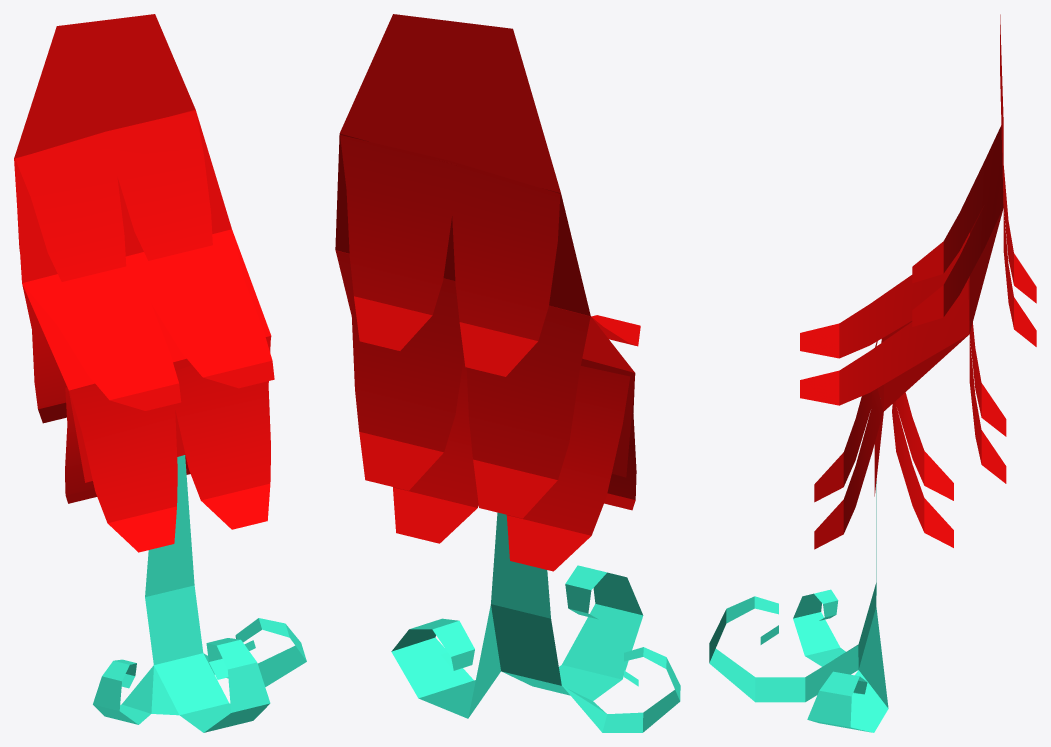
The model's file is tree_1.FBX.
3 renders of one model, left to right at view 1: azimuth 30°, elevation 25°; view 2: azimuth 150°, elevation 25°; view 3: azimuth 270°, elevation 25°, orthographic. The views are drawn at different scales.
Parts seen in each view (by area): view 1: tree_A_v1_top, tree_A_v1_base; view 2: tree_A_v1_top, tree_A_v1_base; view 3: tree_A_v1_top, tree_A_v1_base.
Part boxes in pixels (box(x1,y1,x2,y2)): tree_A_v1_top: box(14, 14, 274, 552); tree_A_v1_base: box(93, 455, 306, 732); tree_A_v1_top: box(335, 14, 640, 571); tree_A_v1_base: box(391, 512, 680, 732); tree_A_v1_top: box(800, 14, 1036, 549); tree_A_v1_base: box(709, 481, 888, 732).
Size of the model in its own units: 3629 by 4468 by 9772.
